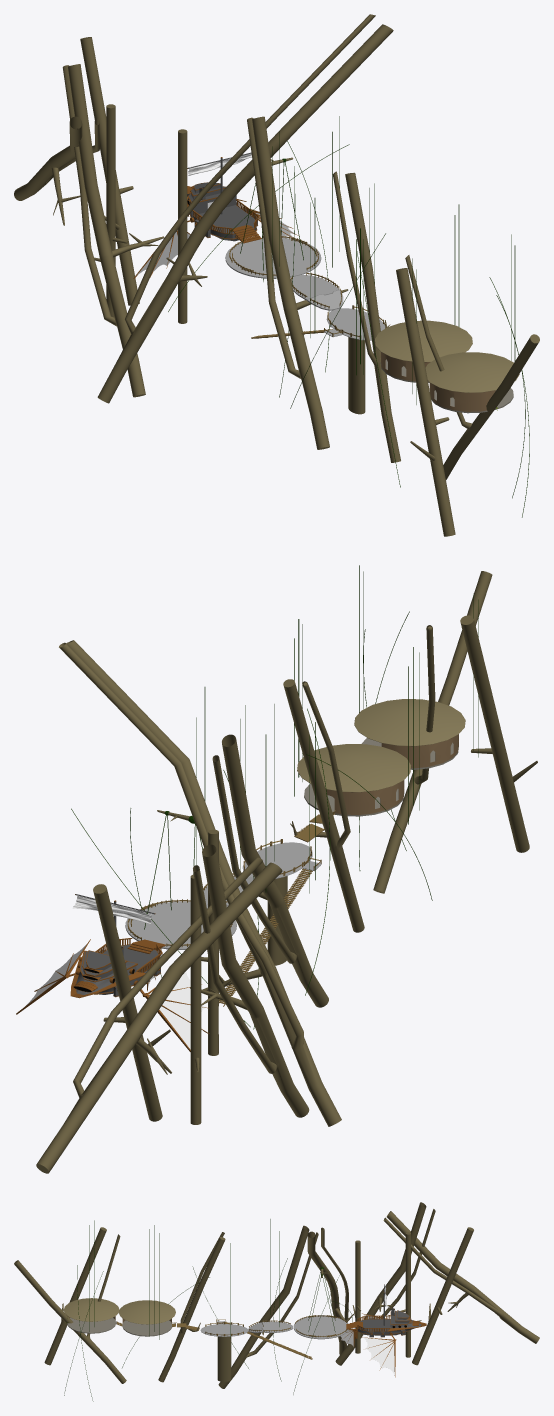
File: Level 1 Room.fbx
3 views of the same model, one above another, from view 1: azimuth 30°, elevation 25°; view 2: azimuth 150°, elevation 25°; view 3: azimuth 270°, elevation 25° (orthographic). The views are drawn at different scales.
Visible parts, largest first — view 1: pCylinder6, pCylinder5, pCylinder25, pCone7, pCylinder2, pCylinder37, polySurface18, pCylinder40, pCone8, pCylinder38, pCube79, pCylinder3 (+5 smaller); view 2: pCylinder39, pCylinder6, polySurface18, pCylinder25, pCylinder5, pCone8, pCone7, pCylinder2, pCube79, pCylinder37, pCylinder40, pCylinder38 (+5 smaller); view 3: polySurface18, pCylinder39, pCylinder5, pCone8, pCone7, pCylinder25, pCylinder37, pCylinder2, pCylinder6, pCylinder3, pCube79, pCylinder38 (+5 smaller).
Part boxes in pixels (x1=…): pCylinder6: x1=97, y1=14, x2=393, y2=403; pCylinder5: x1=247, y1=116, x2=348, y2=449; pCylinder25: x1=62, y1=64, x2=164, y2=397; pCone7: x1=425, y1=352, x2=519, y2=413; pCylinder2: x1=333, y1=171, x2=400, y2=462; pCylinder37: x1=168, y1=116, x2=529, y2=517; polySurface18: x1=133, y1=152, x2=298, y2=278; pCylinder40: x1=396, y1=268, x2=455, y2=536; pCone8: x1=374, y1=320, x2=472, y2=382; pCylinder38: x1=80, y1=37, x2=139, y2=305; pCube79: x1=405, y1=255, x2=539, y2=479; pCylinder3: x1=324, y1=305, x2=385, y2=414; pCylinder39: x1=36, y1=857, x2=282, y2=1173; pCylinder6: x1=59, y1=640, x2=341, y2=1126; polySurface18: x1=16, y1=894, x2=209, y2=1051; pCylinder25: x1=190, y1=844, x2=309, y2=1117; pCylinder5: x1=212, y1=734, x2=328, y2=1007; pCone8: x1=297, y1=744, x2=411, y2=816; pCone7: x1=354, y1=699, x2=465, y2=769; pCylinder2: x1=283, y1=679, x2=364, y2=932; pCube79: x1=373, y1=571, x2=492, y2=893; pCylinder37: x1=71, y1=565, x2=478, y2=1029; pCylinder40: x1=460, y1=615, x2=537, y2=852; pCylinder38: x1=93, y1=884, x2=170, y2=1121; polySurface18: x1=340, y1=1284, x2=426, y2=1377; pCylinder39: x1=383, y1=1211, x2=539, y2=1343; pCylinder5: x1=218, y1=1225, x2=318, y2=1388; pCone8: x1=119, y1=1300, x2=175, y2=1336; pCone7: x1=63, y1=1298, x2=119, y2=1333; pCylinder25: x1=335, y1=1202, x2=435, y2=1365; pCylinder37: x1=64, y1=1219, x2=352, y2=1401; pCylinder2: x1=158, y1=1232, x2=225, y2=1382; pCylinder6: x1=307, y1=1227, x2=355, y2=1354; pCylinder3: x1=200, y1=1319, x2=248, y2=1381; pCube79: x1=14, y1=1234, x2=126, y2=1383; pCylinder38: x1=412, y1=1227, x2=473, y2=1365.
Size of the model in its own units: 5741 by 7024 by 16831.
